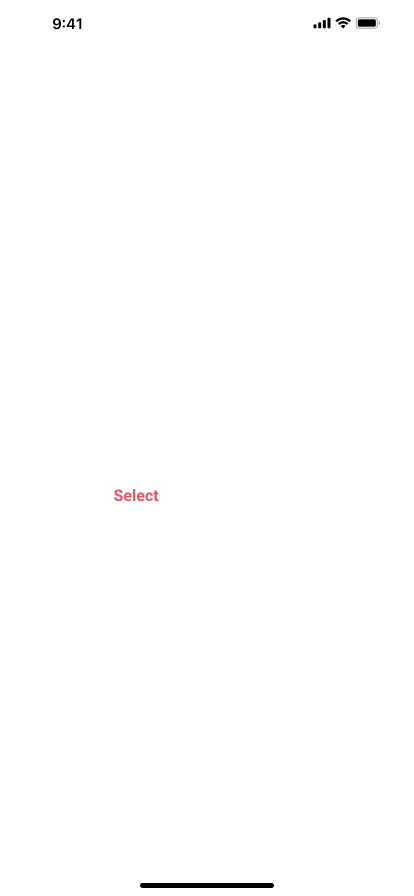Buttons: (8, 474, 265, 517)
Home Indicator: (0, 862, 414, 896)
Status Bar: (0, 0, 414, 44)
